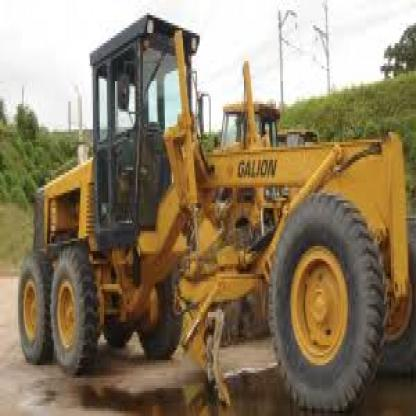bull_dozer/loader/grader: (10, 5, 412, 403)
